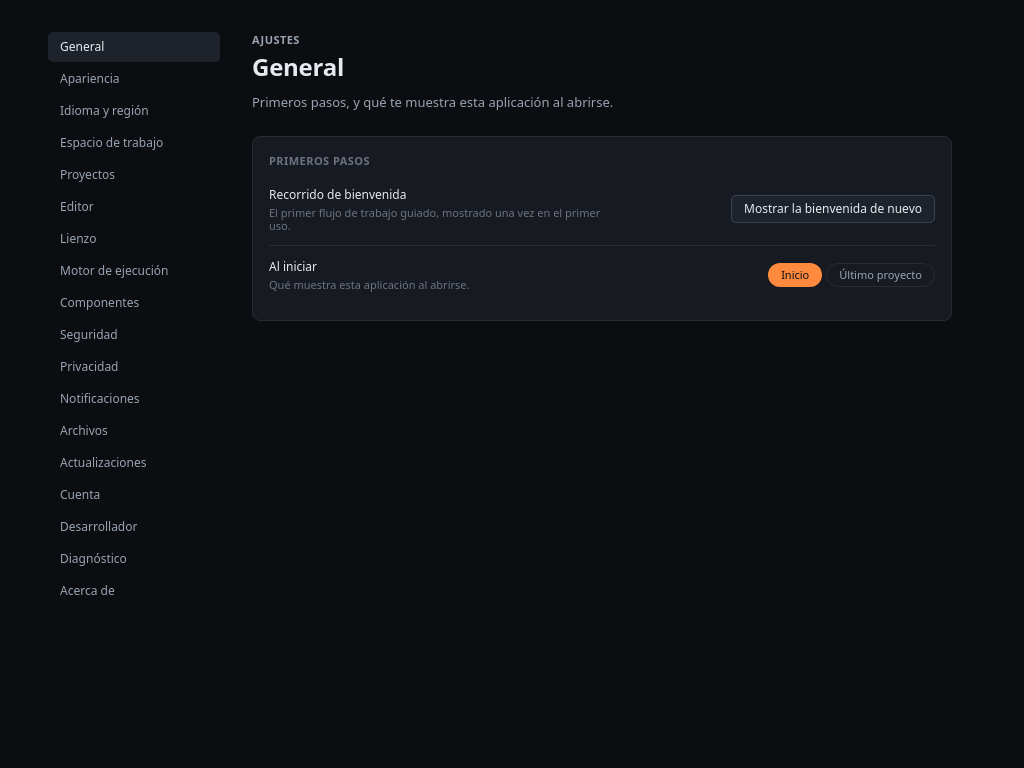
Scenario: Restore defaults › asks in the reader’s language
Click the button "Desarrollador" at (134, 527), box [48,512,220,542]
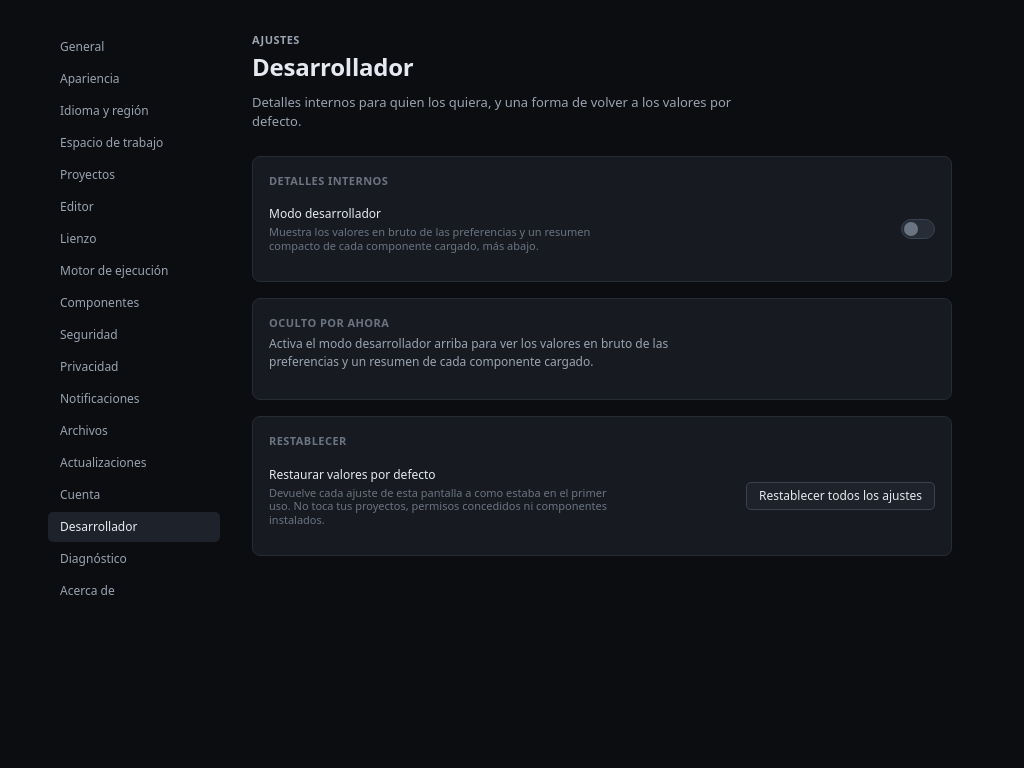
Click the button "Restablecer todos los ajustes" at (840, 496), box [746,482,935,510]
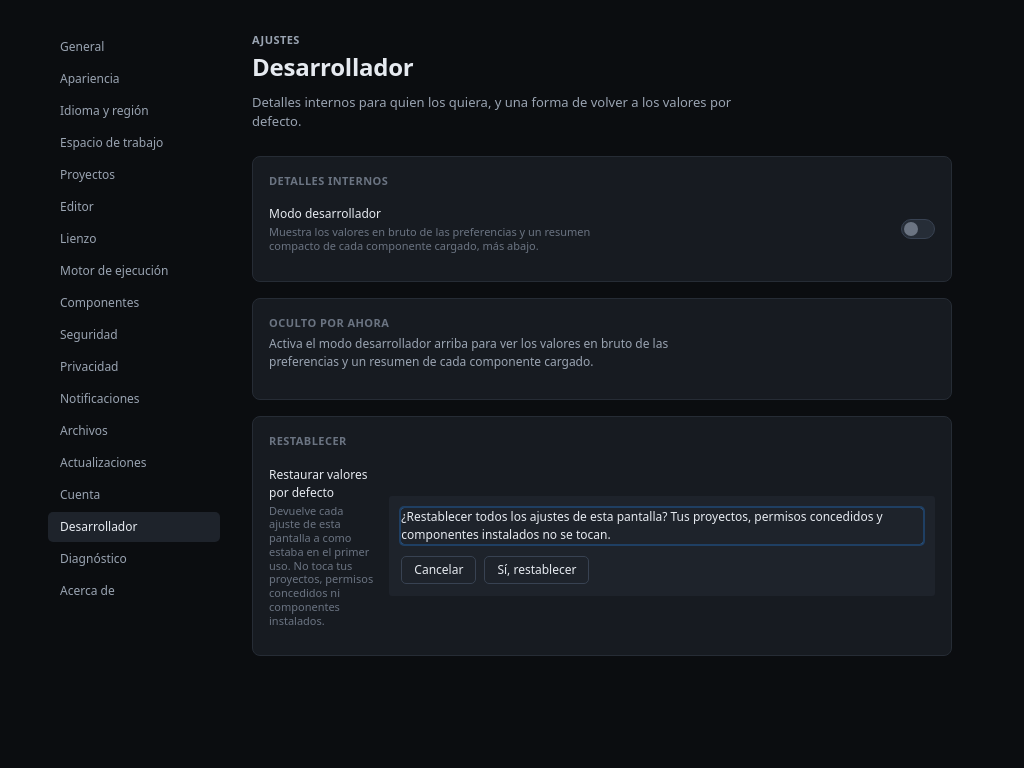
Expected: the text "¿Restablecer todos los ajustes de esta pantalla? Tus proyectos, permisos concedidos y componentes instalados no se tocan" is shown, [401,508,883,543]
